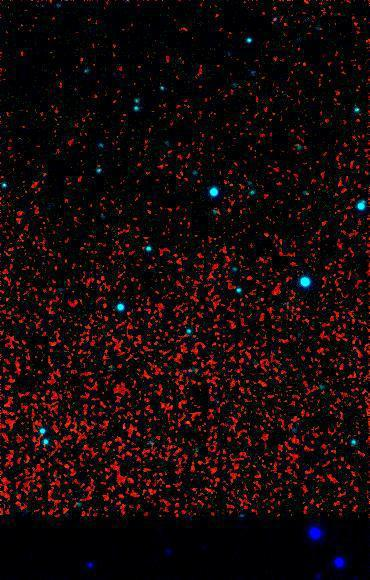star: (251, 220, 281, 250)
